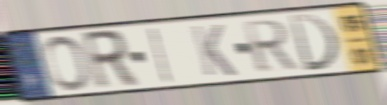D: (287, 13, 341, 74)
I: (147, 25, 174, 86)
K: (189, 23, 239, 79)
O: (42, 34, 93, 93)
R: (79, 27, 142, 92), (240, 17, 300, 76)
